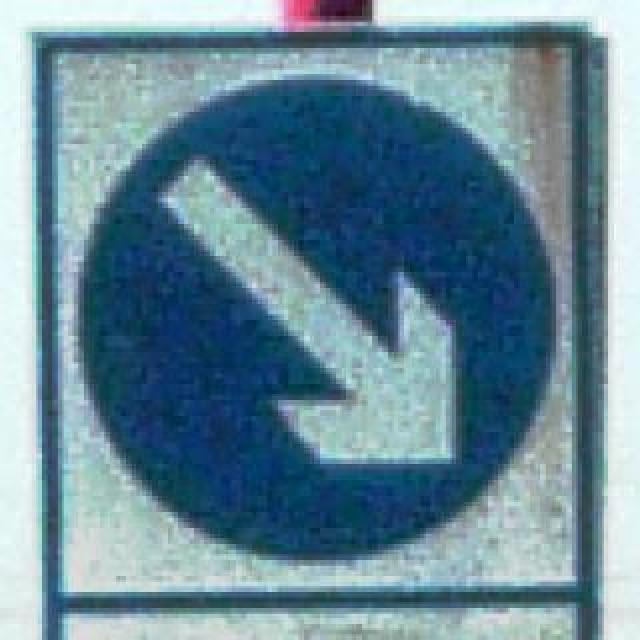keep right: (58, 54, 566, 582)
